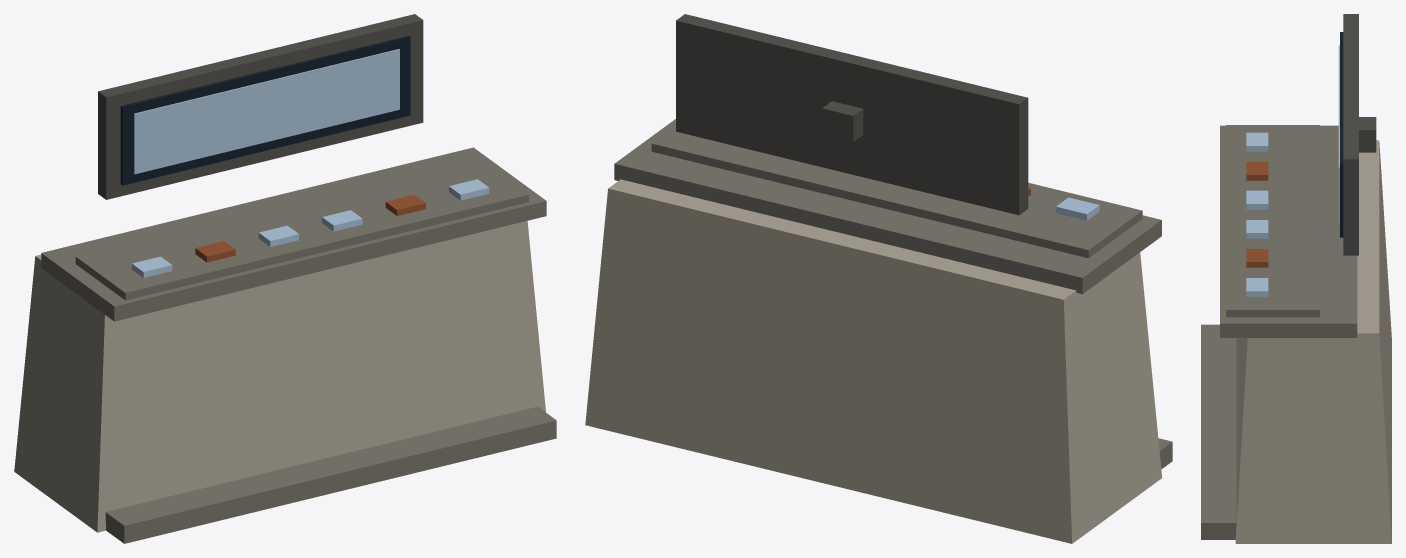
File: civilian_console.glb
3 renders of one model, left to right at view 1: azimuth 30°, elevation 25°; view 2: azimuth 150°, elevation 25°; view 3: azimuth 270°, elevation 25°, orthographic. The views are drawn at different scales.
Visible parts, largest first — view 1: civilian_console; view 2: civilian_console; view 3: civilian_console.
Part boxes in pixels (<box>): civilian_console: <box>14,14,556,543</box>; civilian_console: <box>585,14,1172,543</box>; civilian_console: <box>1201,14,1391,543</box>.
Size of the model in its own units: 1.56 by 1.25 by 0.61.
